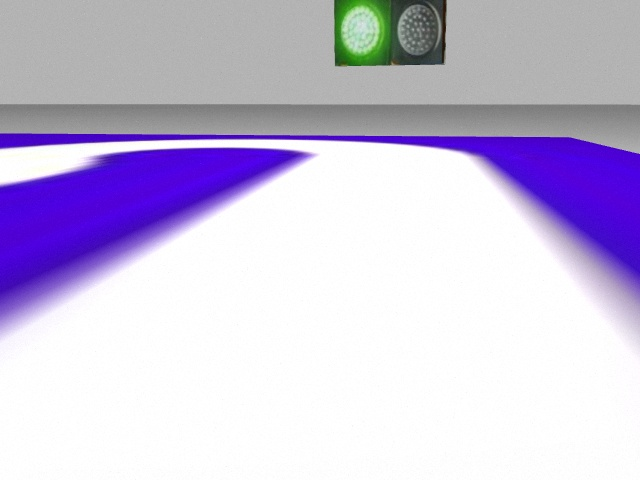green: (334, 1, 390, 64)
